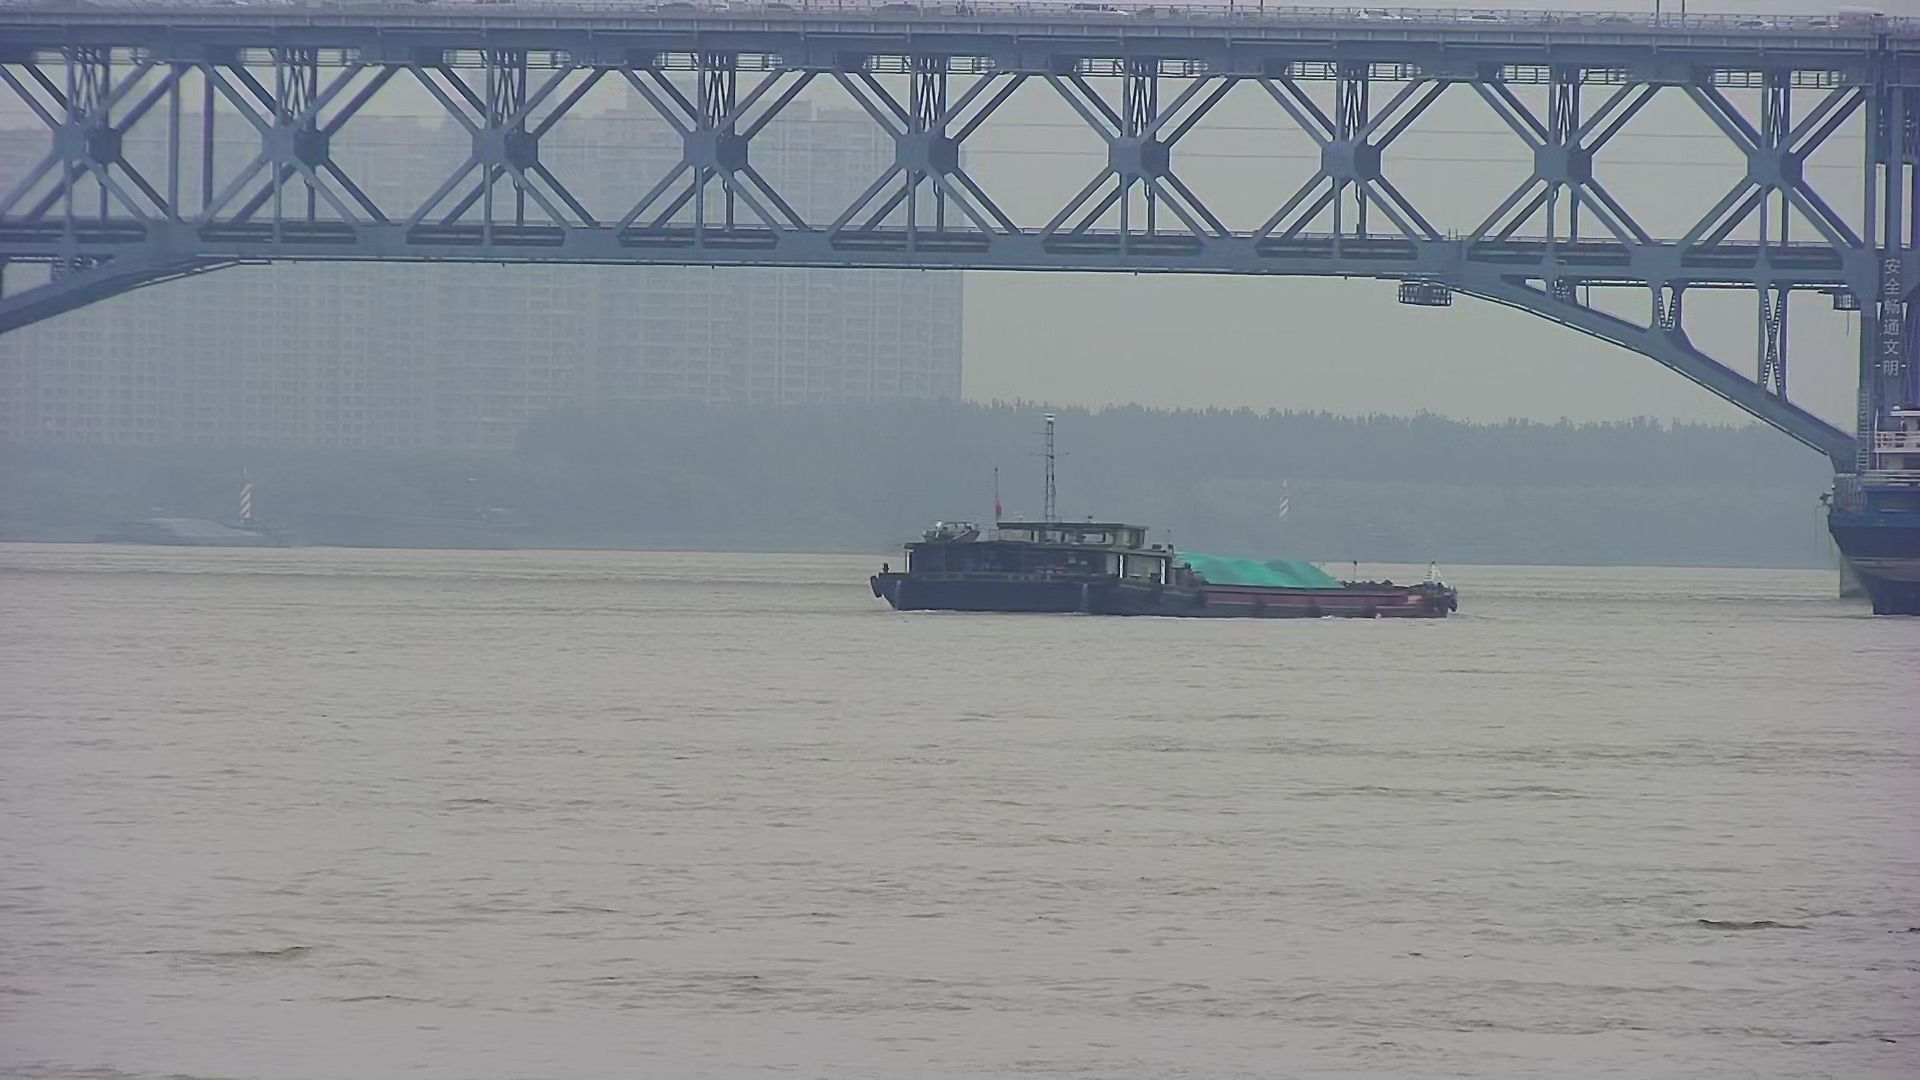bridge: (9, 9, 1911, 414)
ship: (856, 512, 1465, 624)
